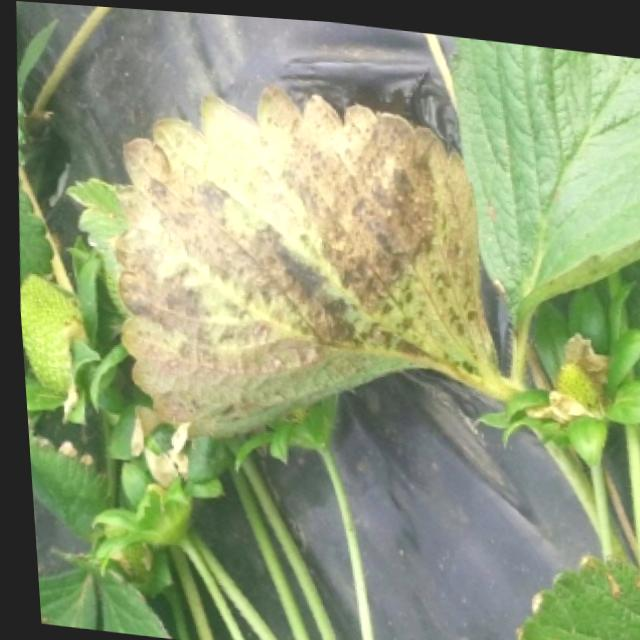Angular Leafspot: (108, 80, 499, 442)
